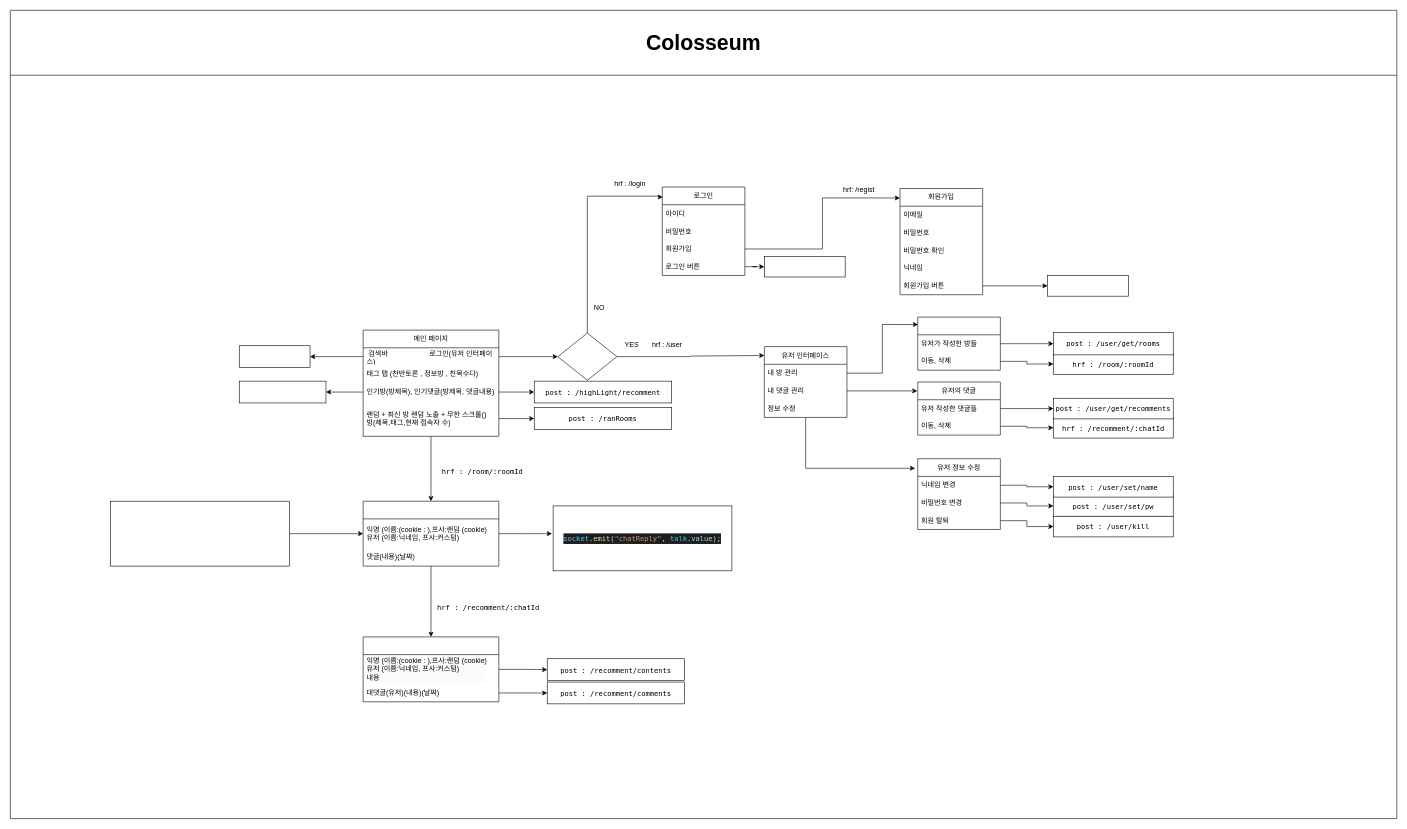
Image size: 1407x829. Some labels were removed from this diagram. The box of each missing label's shape, as (x1, y1, x2, y2) in pixels:
cookie user : name: (557, 332, 617, 380)
post : / highLight/room: (239, 381, 326, 403)
post : /login: (764, 256, 845, 277)
post : /regist: (1047, 275, 1128, 296)
post : /search: (239, 345, 310, 368)
recomment(게시판 형식): (363, 636, 499, 702)
room(채팅방): (363, 501, 499, 566)
socket . emit ( "chatLoad" , { time : time , roomId : + roomId });: (110, 501, 289, 566)
유저의 방: (917, 317, 1000, 370)
